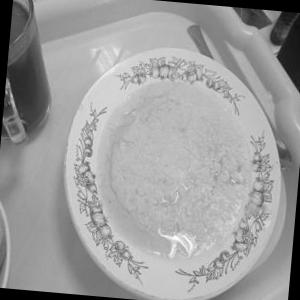porridge: (61, 45, 270, 294)
